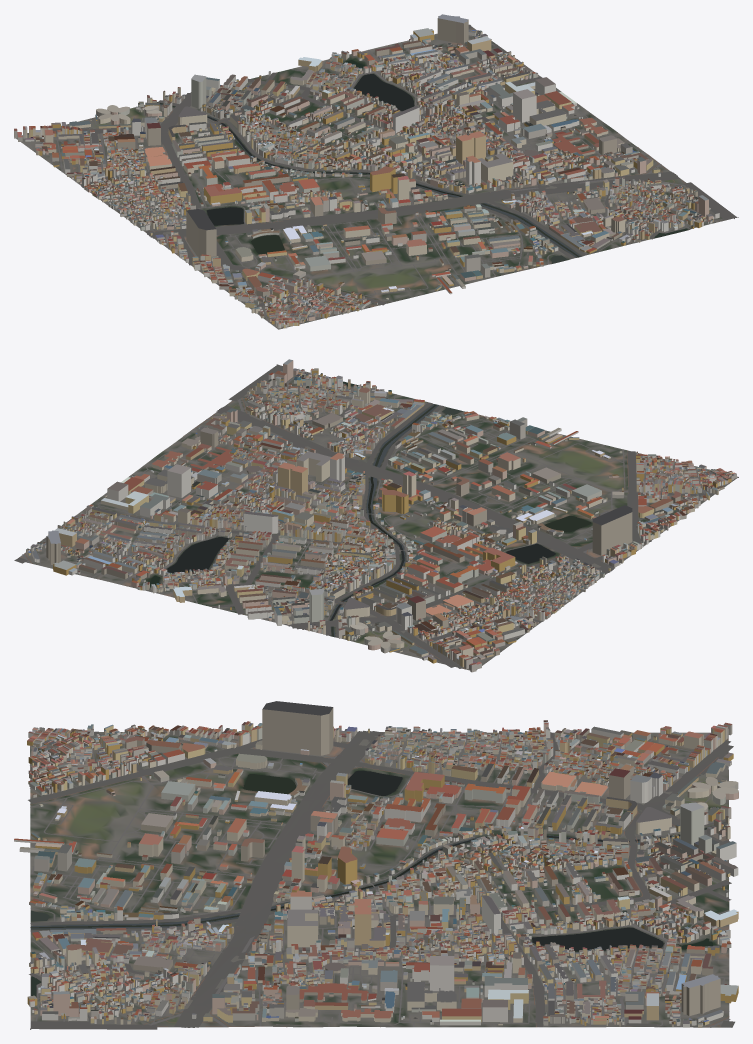
3 renders of one model, top to bottom at view 1: azimuth 30°, elevation 25°; view 2: azimuth 150°, elevation 25°; view 3: azimuth 270°, elevation 25°, orthographic. The views are drawn at different scales.
Visible parts, largest first — view 1: buildings, ground, roads, water; view 2: buildings, ground, roads, water; view 3: buildings, ground, roads, water.
Boxes of the visible parts, x1,y1,x2,y2 form: buildings: (14,14,719,328); ground: (14,27,734,329); roads: (27,24,738,328); water: (157,60,687,263); buildings: (26,359,736,672); ground: (19,368,738,670); roads: (14,364,737,668); water: (150,381,591,636); buildings: (14,701,738,1027); ground: (30,731,729,1027); roads: (28,730,734,1029); water: (30,770,725,1018).
Size of the model in its own units: 1423 by 94.75 by 1455.
